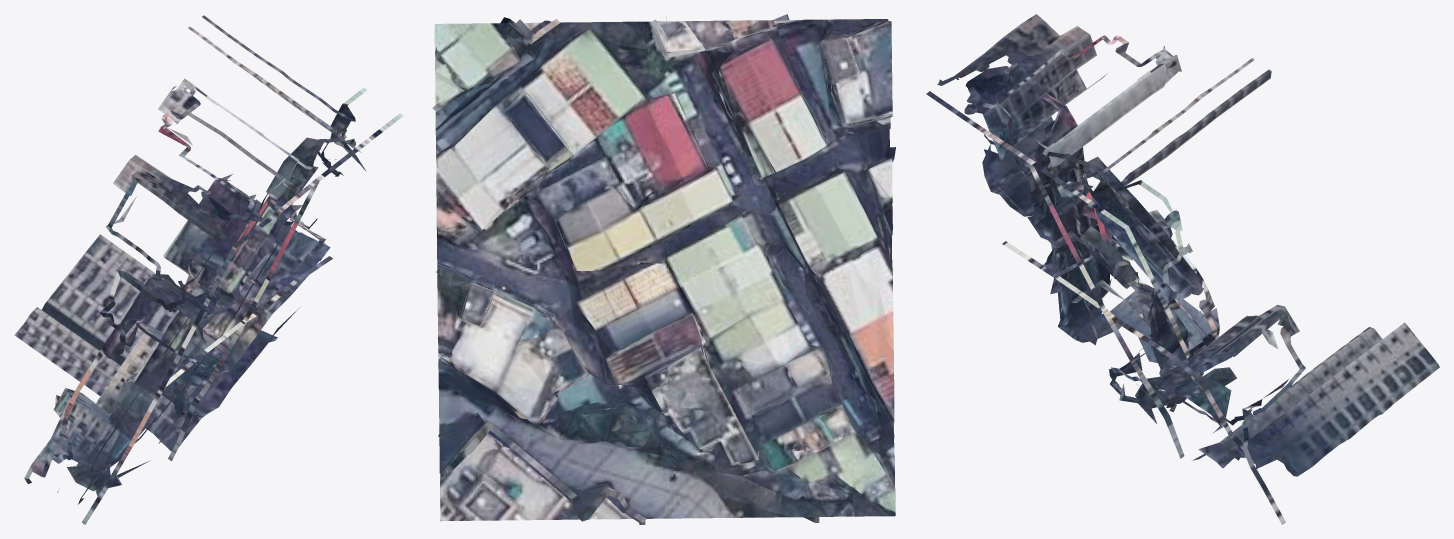
The picture shows the model from 3 angles, left to right: view 1: azimuth 30°, elevation 25°; view 2: azimuth 150°, elevation 25°; view 3: azimuth 270°, elevation 25°; orthographic projection. The views are drawn at different scales.
Size of the model in its own units: 83.98 by 87.03 by 94.34.
Materials: 2 (2 with a texture image).
